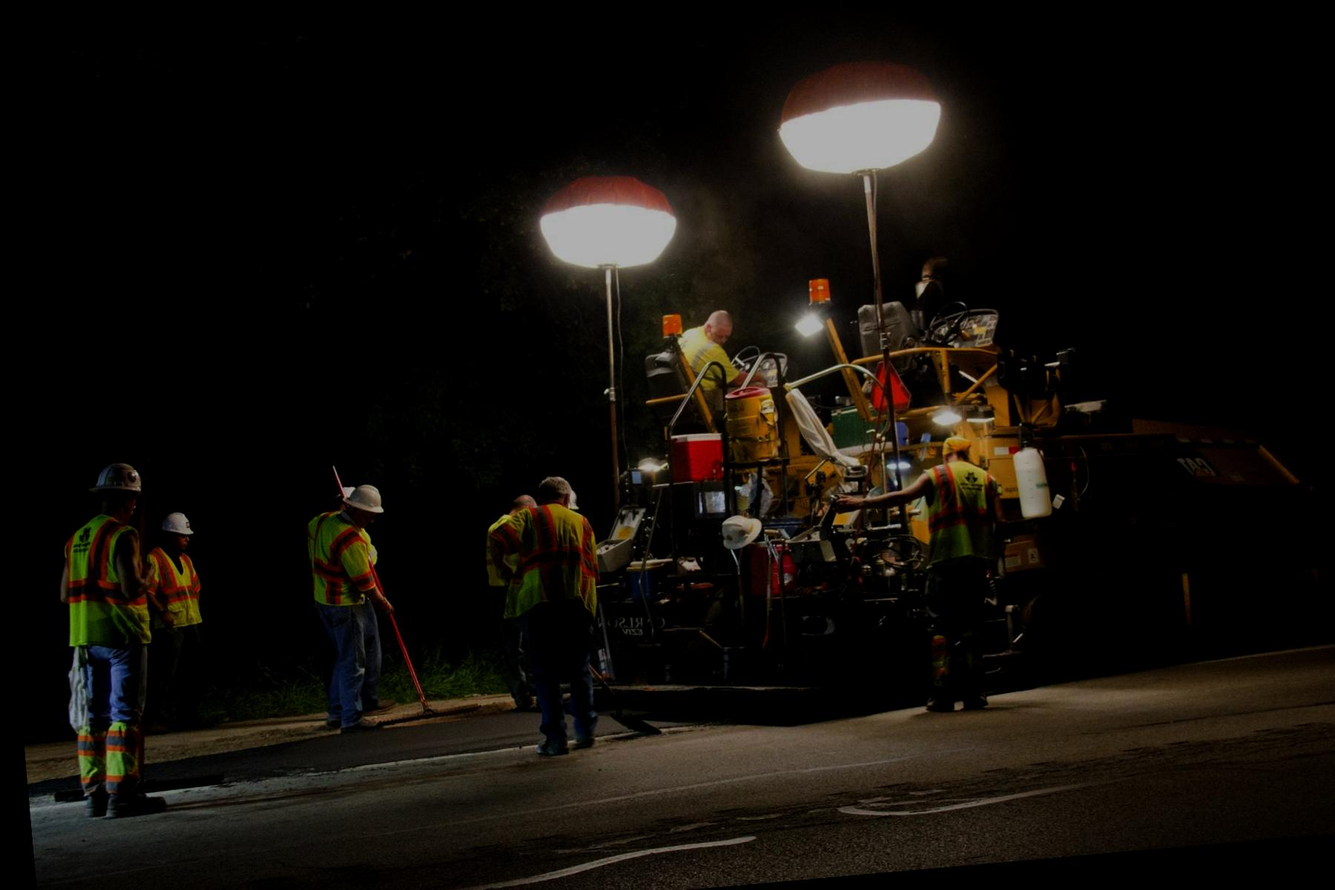helmet: (88, 455, 153, 504), (328, 476, 389, 523), (152, 504, 195, 539)
person: (41, 452, 178, 830), (883, 422, 1022, 722), (484, 471, 622, 765), (283, 481, 408, 741), (130, 507, 221, 732), (659, 289, 758, 447)
